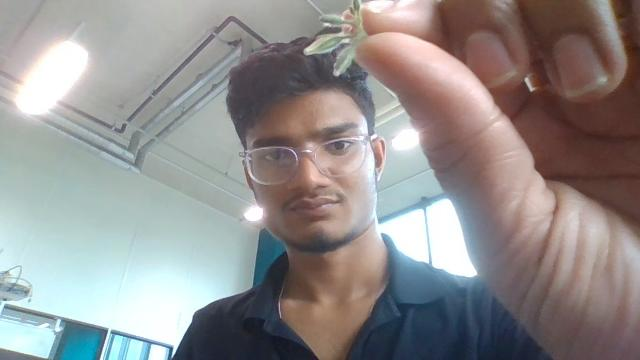Flower Bud: (347, 16, 370, 73), (304, 32, 348, 55), (333, 42, 356, 78), (333, 44, 358, 77), (318, 13, 351, 26)
